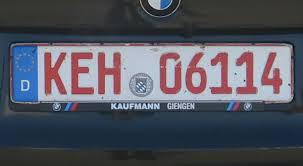0: (159, 52, 184, 95)
1: (206, 52, 233, 94), (232, 51, 258, 94)
4: (258, 50, 284, 97)
6: (184, 51, 210, 93)
E: (71, 52, 95, 94)
H: (97, 49, 122, 96)
K: (41, 50, 71, 96)
